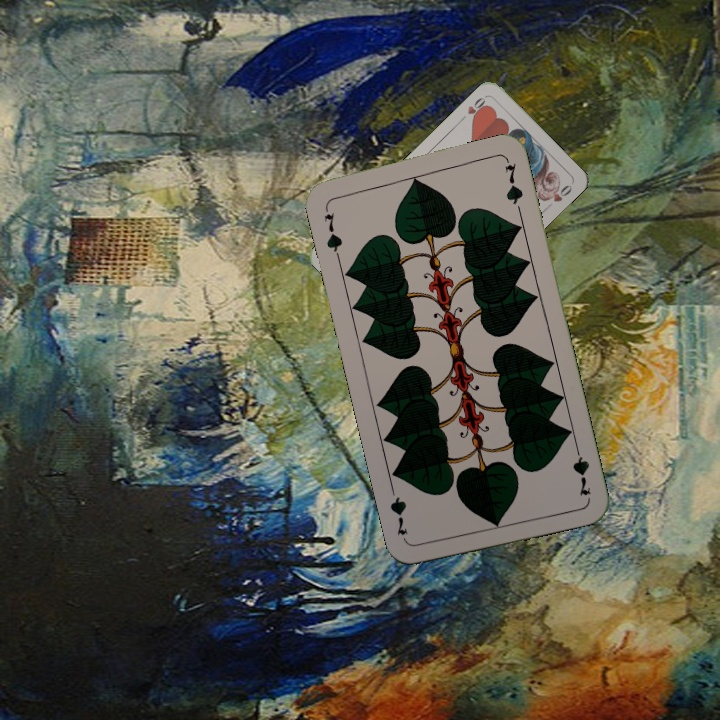G7: (568, 440, 594, 499), (319, 201, 345, 260)
HO: (456, 93, 491, 124)
